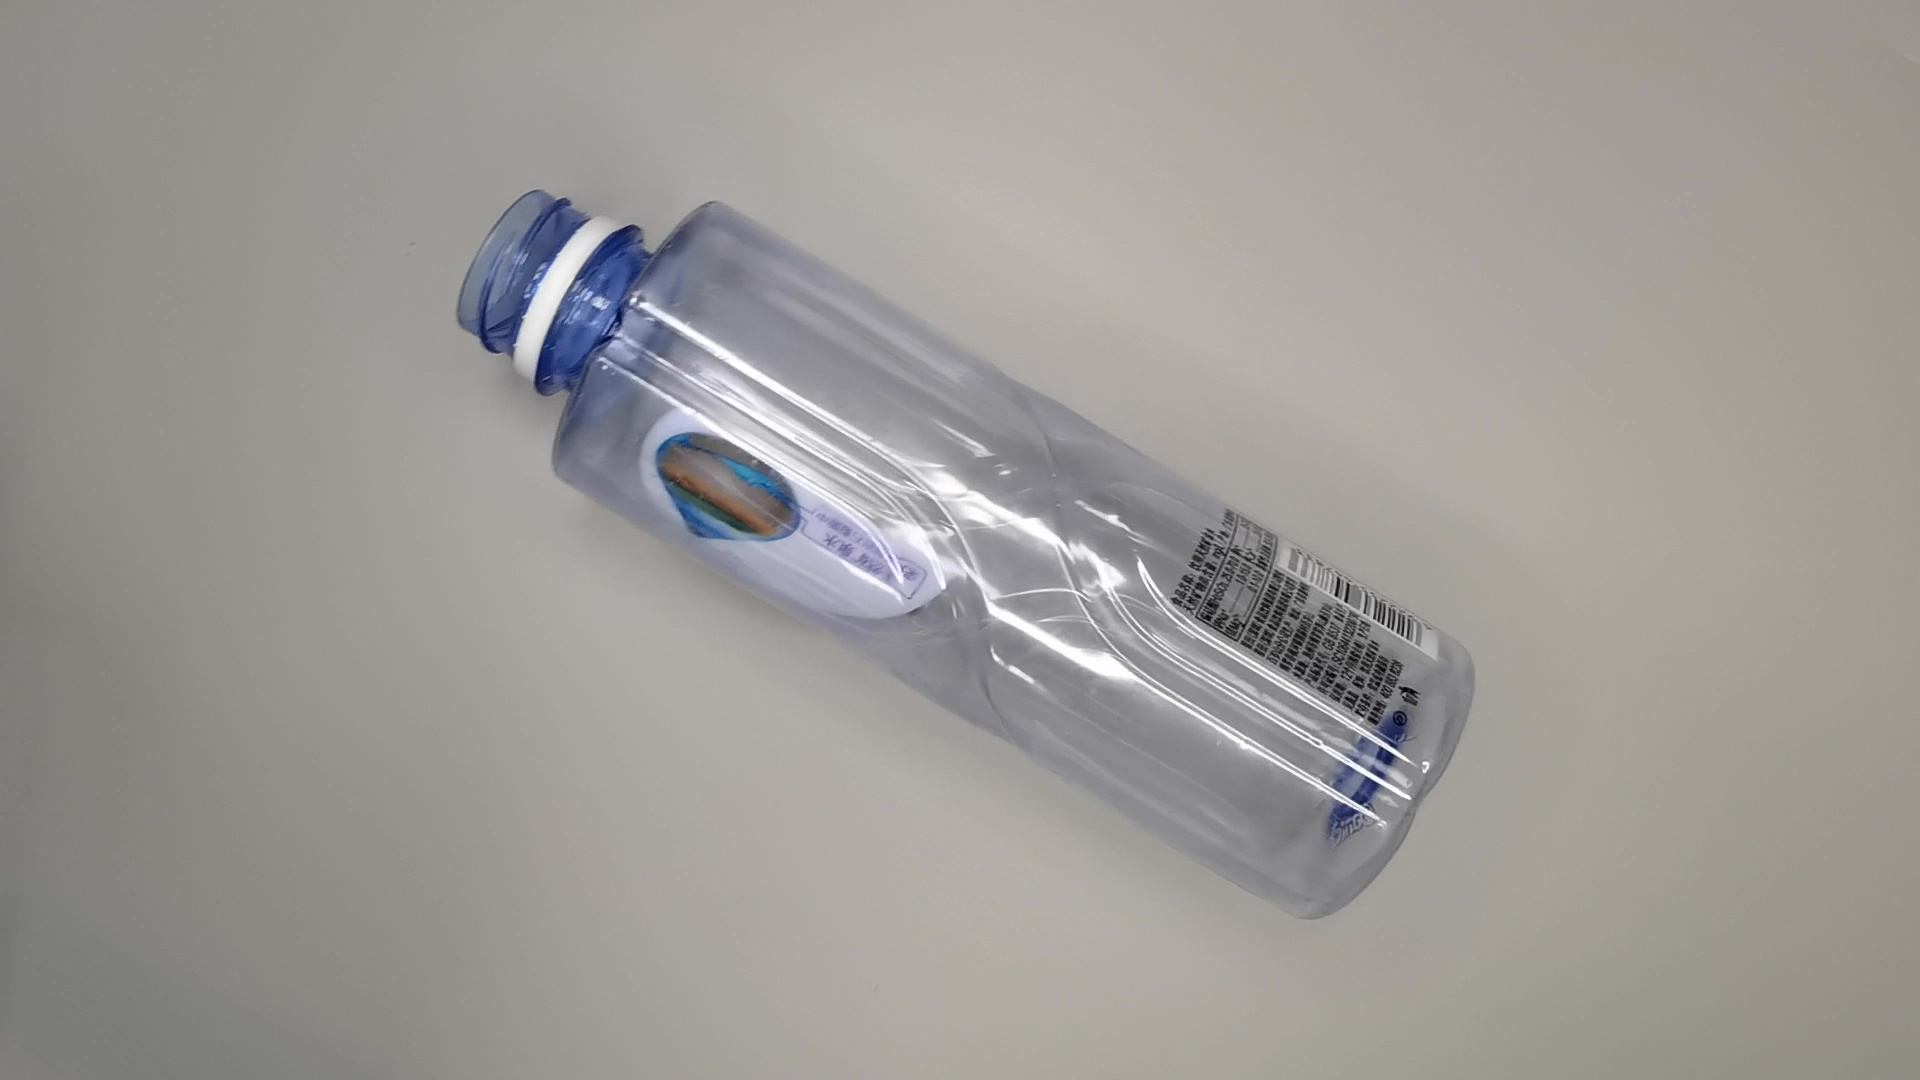bottle: (455, 183, 1487, 927)
